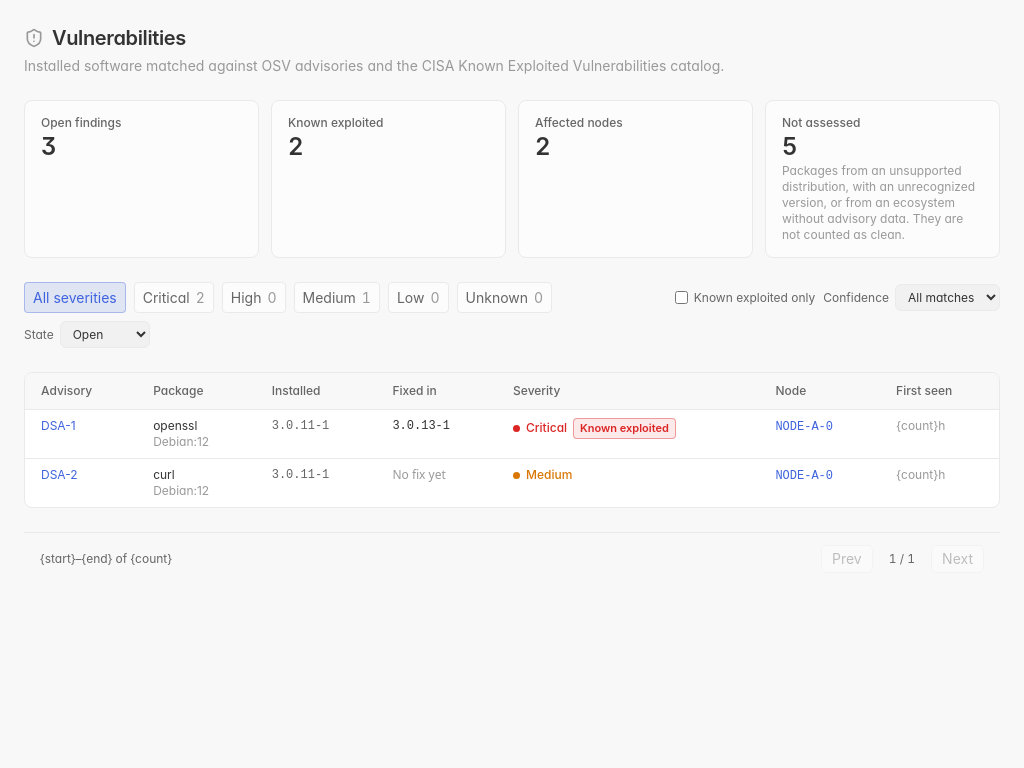
Test case: VulnerabilitiesPage › opens the advisory from a finding
The width and height of the screenshot is (1024, 768).
Click the button "DSA-1": (58, 426) [41,418,76,434]
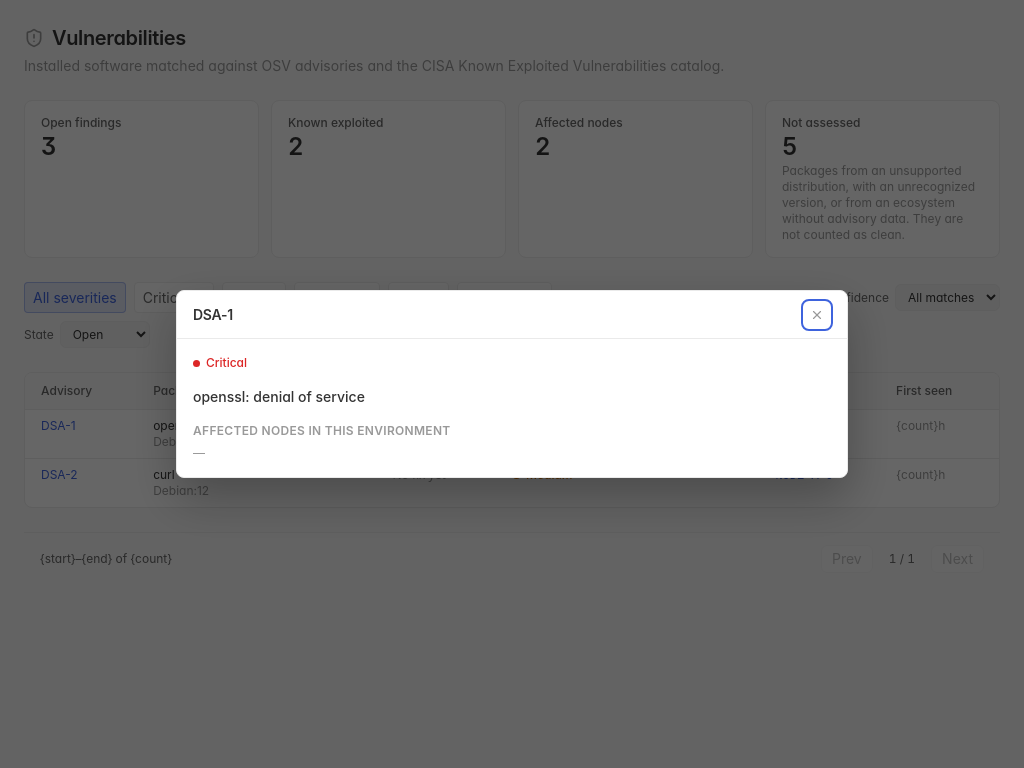
Now the text "openssl: denial of service" is shown, box [193,388,365,405]
